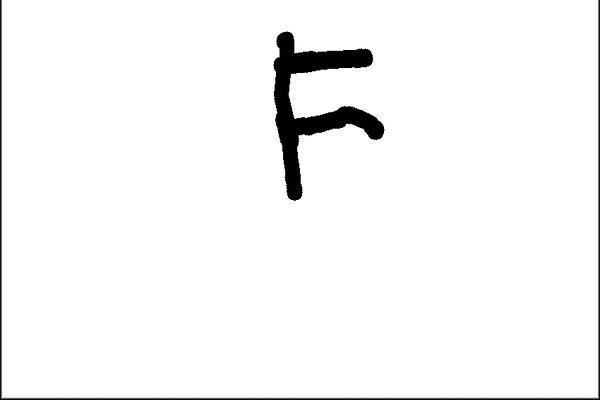F: (269, 26, 389, 204)
